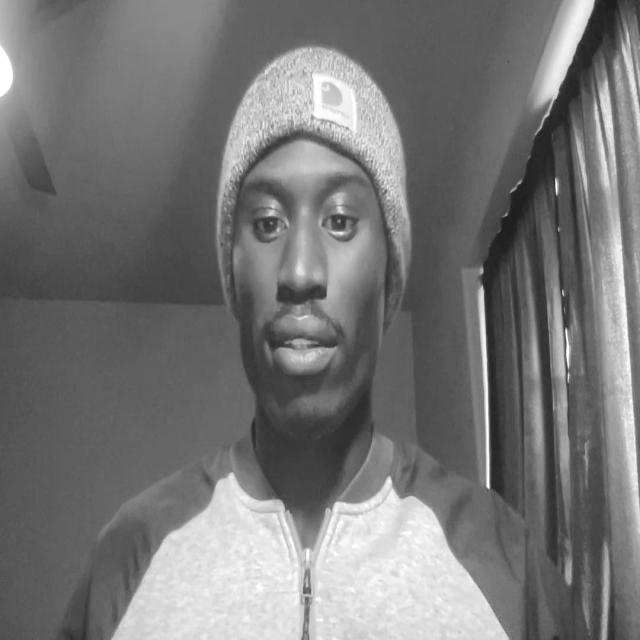real: (228, 134, 392, 446)
